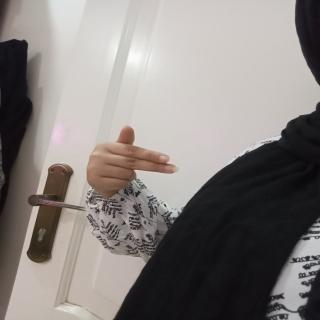GHAYN: (82, 120, 206, 212)
